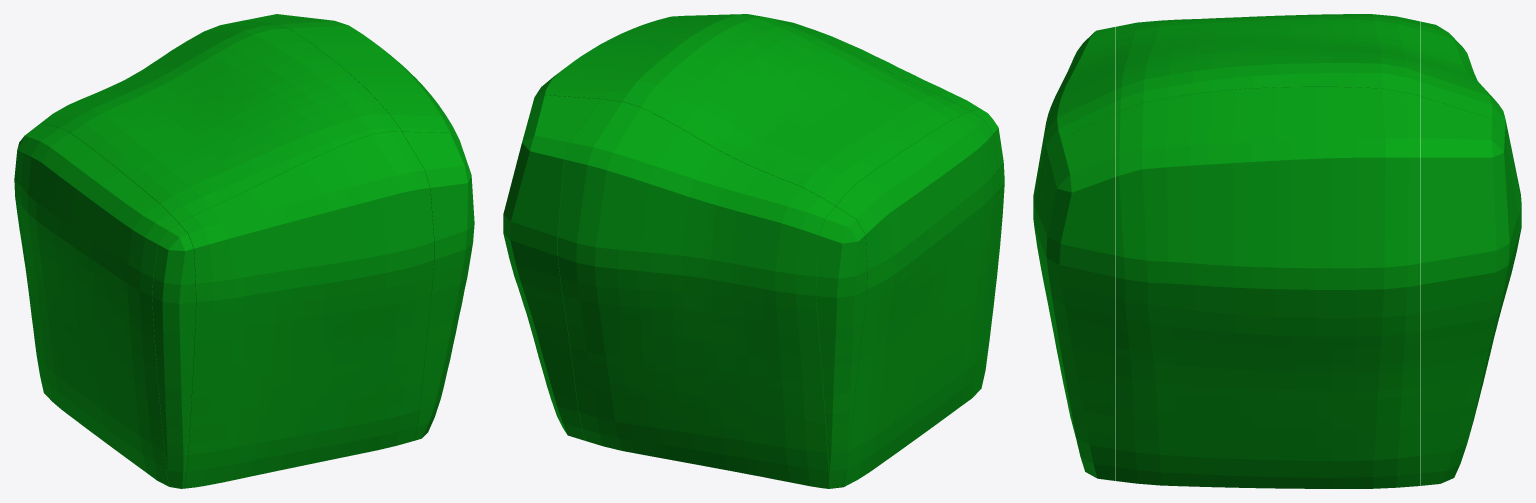
The model's file is 4by10beveledsubdivided.010.fbx.
3 views of the same model, side by side, from view 1: azimuth 30°, elevation 25°; view 2: azimuth 150°, elevation 25°; view 3: azimuth 270°, elevation 25° (orthographic). The views are drawn at different scales.
Parts seen in each view (by area): view 1: 4by10beveledsubdivided.010; view 2: 4by10beveledsubdivided.010; view 3: 4by10beveledsubdivided.010.
Part boxes in pixels (x1,y1,x2,y2): 4by10beveledsubdivided.010: [14, 14, 474, 488]; 4by10beveledsubdivided.010: [503, 14, 1004, 488]; 4by10beveledsubdivided.010: [1033, 14, 1521, 488].
Bounding box in the file's own units: 316 × 279 × 321.
